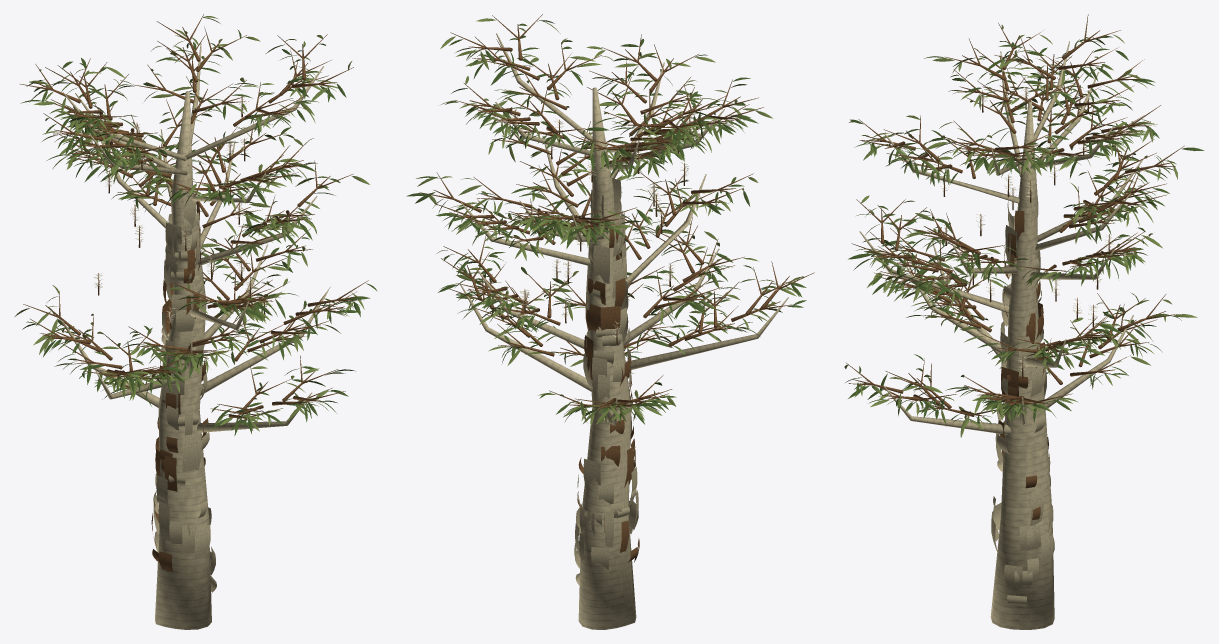
Rendered from 03_paperbark.glb.
3 views of the same model, side by side, from view 1: azimuth 30°, elevation 25°; view 2: azimuth 150°, elevation 25°; view 3: azimuth 270°, elevation 25° (orthographic).
Parts seen in each view (by area): view 1: Paperbark | ivory trunk and fine branches, Paperbark | narrow lanceolate leaves, Paperbark | lifted layered bark, Paperbark | bottlebrush inflorescences; view 2: Paperbark | ivory trunk and fine branches, Paperbark | narrow lanceolate leaves, Paperbark | lifted layered bark, Paperbark | bottlebrush inflorescences; view 3: Paperbark | ivory trunk and fine branches, Paperbark | narrow lanceolate leaves, Paperbark | lifted layered bark, Paperbark | bottlebrush inflorescences.
Part boxes in pixels (x1,y1,x2,y2): Paperbark | ivory trunk and fine branches: (20, 14, 368, 629); Paperbark | narrow lanceolate leaves: (14, 16, 377, 435); Paperbark | lifted layered bark: (151, 192, 216, 592); Paperbark | bottlebrush inflorescences: (84, 94, 268, 323); Paperbark | ivory trunk and fine branches: (419, 14, 814, 629); Paperbark | narrow lanceolate leaves: (406, 18, 806, 426); Paperbark | lifted layered bark: (574, 178, 639, 585); Paperbark | bottlebrush inflorescences: (511, 109, 694, 336); Paperbark | ivory trunk and fine branches: (846, 14, 1184, 629); Paperbark | narrow lanceolate leaves: (844, 25, 1204, 437); Paperbark | lifted layered bark: (991, 198, 1054, 605); Paperbark | bottlebrush inflorescences: (934, 87, 1113, 370).
Size of the model in its own units: 4.94 by 7.83 by 4.73.
Materials: 5 (4 with a texture image).
